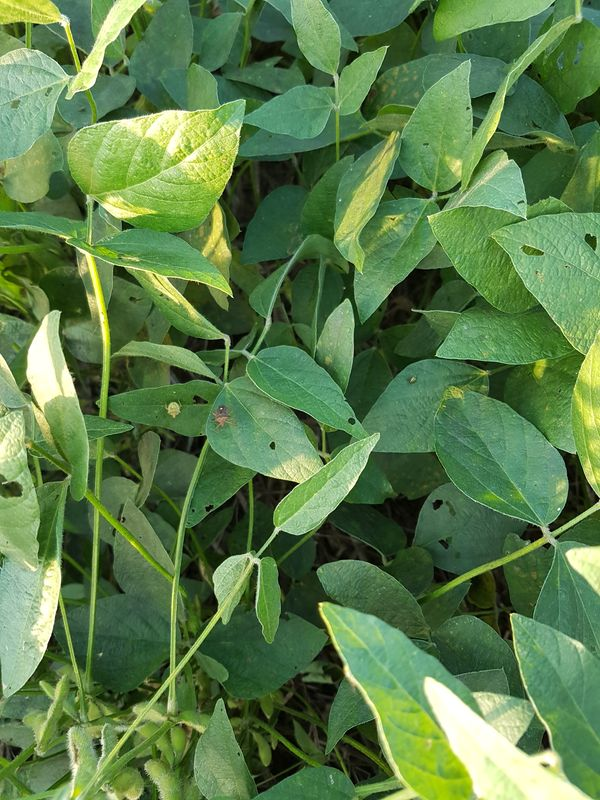Euschistus_heros_adulto: (207, 402, 237, 432)
Euschistus_heros_ninfa: (161, 396, 185, 423)
